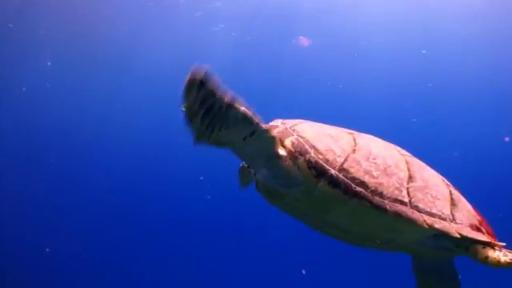Fish: (183, 66, 511, 287)
